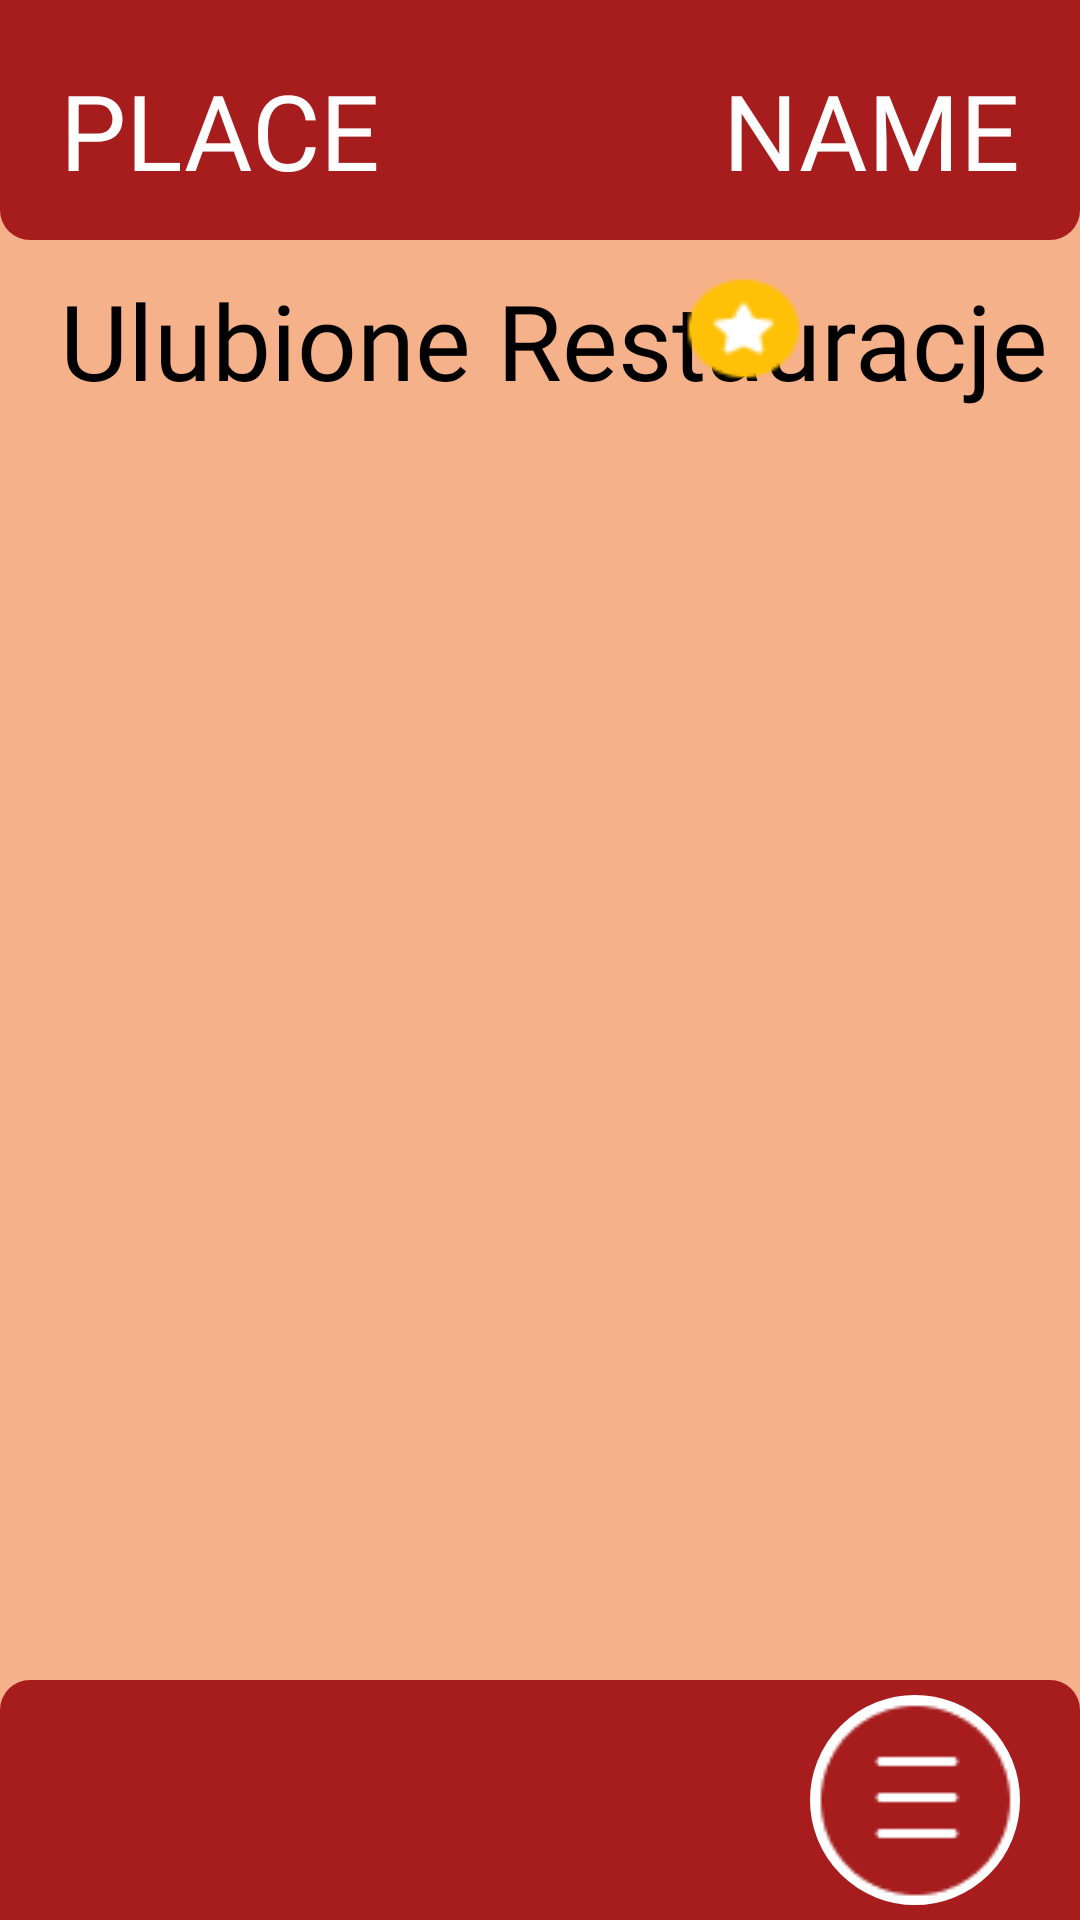

Point at icon controls on the screen. Image size 1080px×1920px, points as point (x, y).
favorite photo: point (745, 330)
